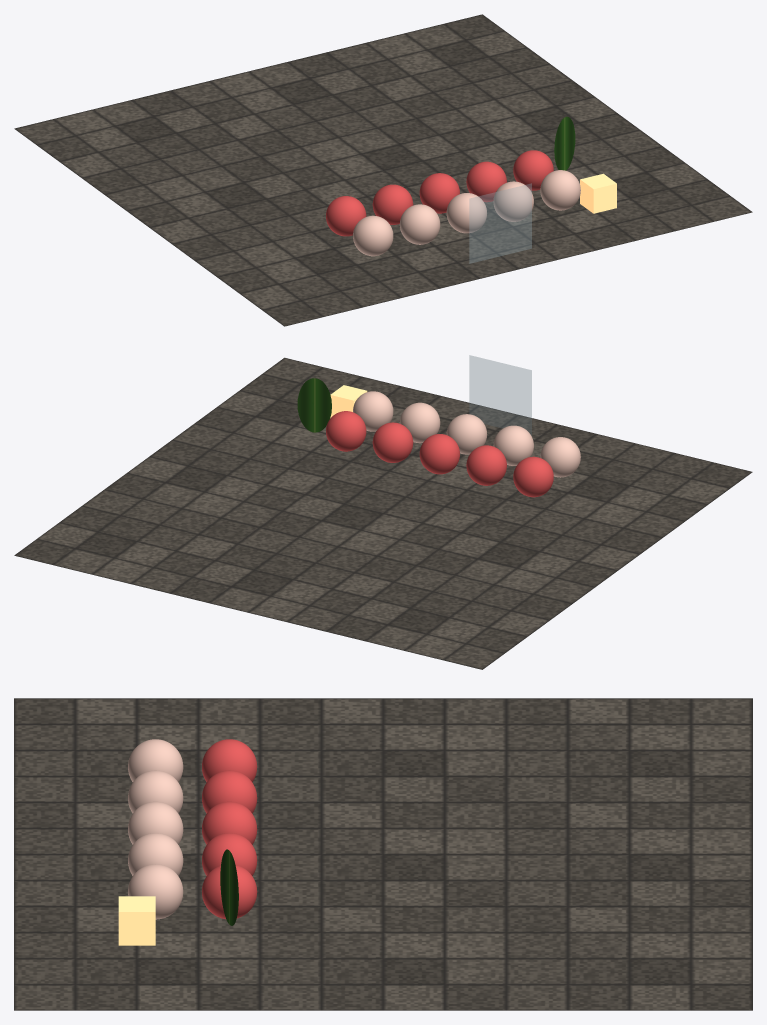
3 views of the same model, one above another, from view 1: azimuth 30°, elevation 25°; view 2: azimuth 150°, elevation 25°; view 3: azimuth 270°, elevation 25° (orthographic). The views are drawn at different scales.
Visible parts, largest first — view 1: Ground, Glass pane, Metal r0.3, Metal r0.9, Metal r0.1, Metal r0.5, Metal r0.7, Glow cube, Dielectric r0.1, Dielectric r0.5, Dielectric r0.3, Dielectric r0.7 (+2 smaller); view 2: Ground, Glass pane, Leaf card, Dielectric r0.1, Dielectric r0.3, Dielectric r0.7, Dielectric r0.9, Dielectric r0.5, Metal r0.1, Metal r0.9, Metal r0.5, Metal r0.7 (+2 smaller); view 3: Ground, Metal r0.9, Glow cube, Metal r0.1, Metal r0.3, Dielectric r0.3, Metal r0.5, Dielectric r0.1, Dielectric r0.5, Metal r0.7, Dielectric r0.9, Dielectric r0.7 (+1 smaller).
Boxes of the visible parts, x1,y1,x2,y2 form: Ground: (14,14,752,326); Glass pane: (469,183,531,263); Metal r0.3: (399,204,440,244); Metal r0.9: (540,170,580,210); Metal r0.1: (353,215,393,256); Metal r0.5: (446,193,486,233); Metal r0.7: (493,181,533,221); Glow cube: (580,173,616,213); Dielectric r0.1: (326,196,366,236); Dielectric r0.5: (419,173,459,213); Dielectric r0.3: (372,184,413,224); Dielectric r0.7: (466,161,506,202); Ground: (14,357,752,669); Glass pane: (469,355,531,435); Leaf card: (297,378,331,432); Dielectric r0.1: (513,456,553,497); Dielectric r0.3: (466,445,506,485); Dielectric r0.7: (372,422,413,462); Dielectric r0.9: (326,411,366,451); Dielectric r0.5: (419,434,459,474); Metal r0.1: (540,437,580,477); Metal r0.9: (353,391,393,431); Metal r0.5: (446,414,487,454); Metal r0.7: (399,402,440,443); Ground: (14,698,752,1010); Metal r0.9: (128,864,183,919); Glow cube: (118,896,155,945); Metal r0.1: (128,739,183,782); Metal r0.3: (128,770,183,813); Dielectric r0.3: (202,770,257,813); Metal r0.5: (128,801,183,844); Dielectric r0.1: (202,739,257,782); Dielectric r0.5: (202,801,257,844); Metal r0.7: (128,833,183,875); Dielectric r0.9: (202,865,257,919); Dielectric r0.7: (202,833,257,875).
Size of the model in its own units: 12 by 1.6 by 12.
14 materials, 2 textured.
